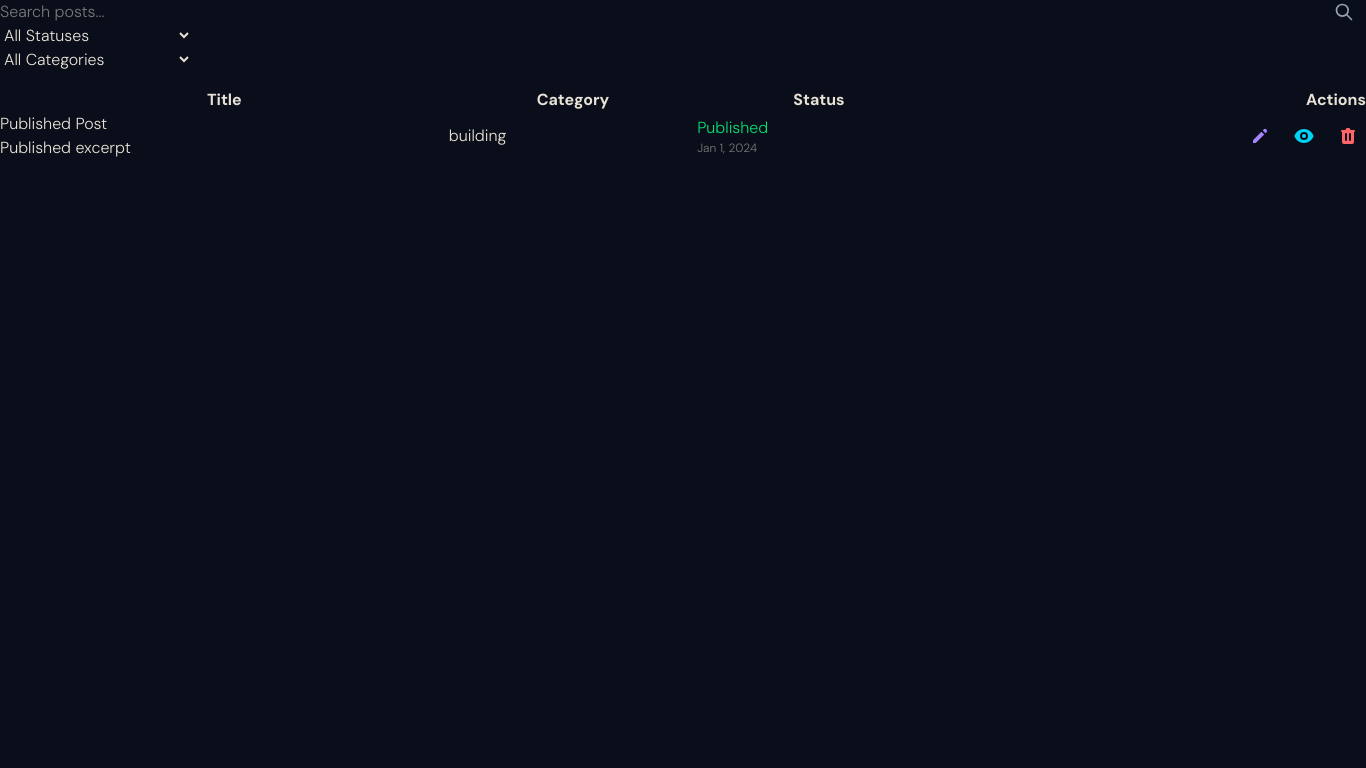
PostsTable › Delete Functionality › surfaces an API error and keeps the row
This screenshot has width=1366, height=768.
Click the button titled "Delete post" at point(1348, 136), box left=1330, top=118, right=1365, bottom=154
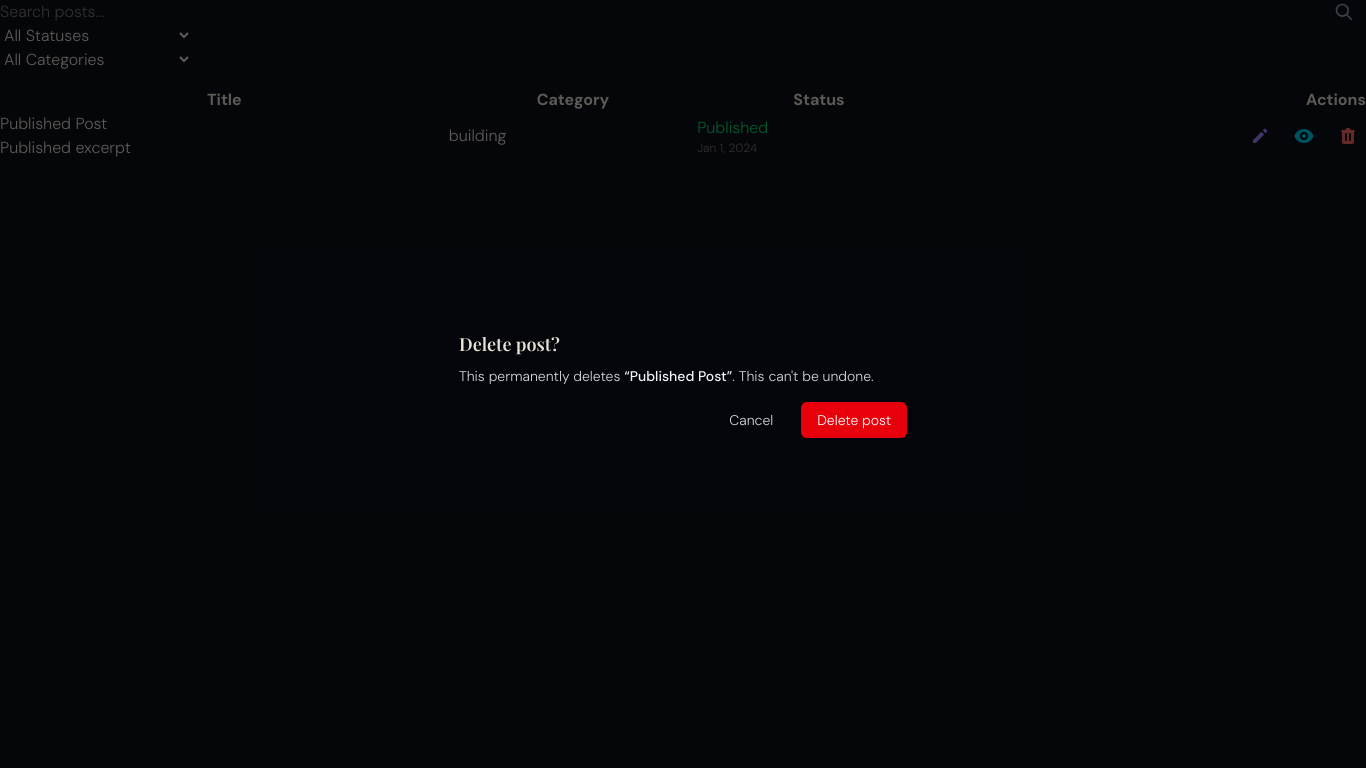
Click the button "Delete post" at point(854, 420), box left=801, top=402, right=907, bottom=438
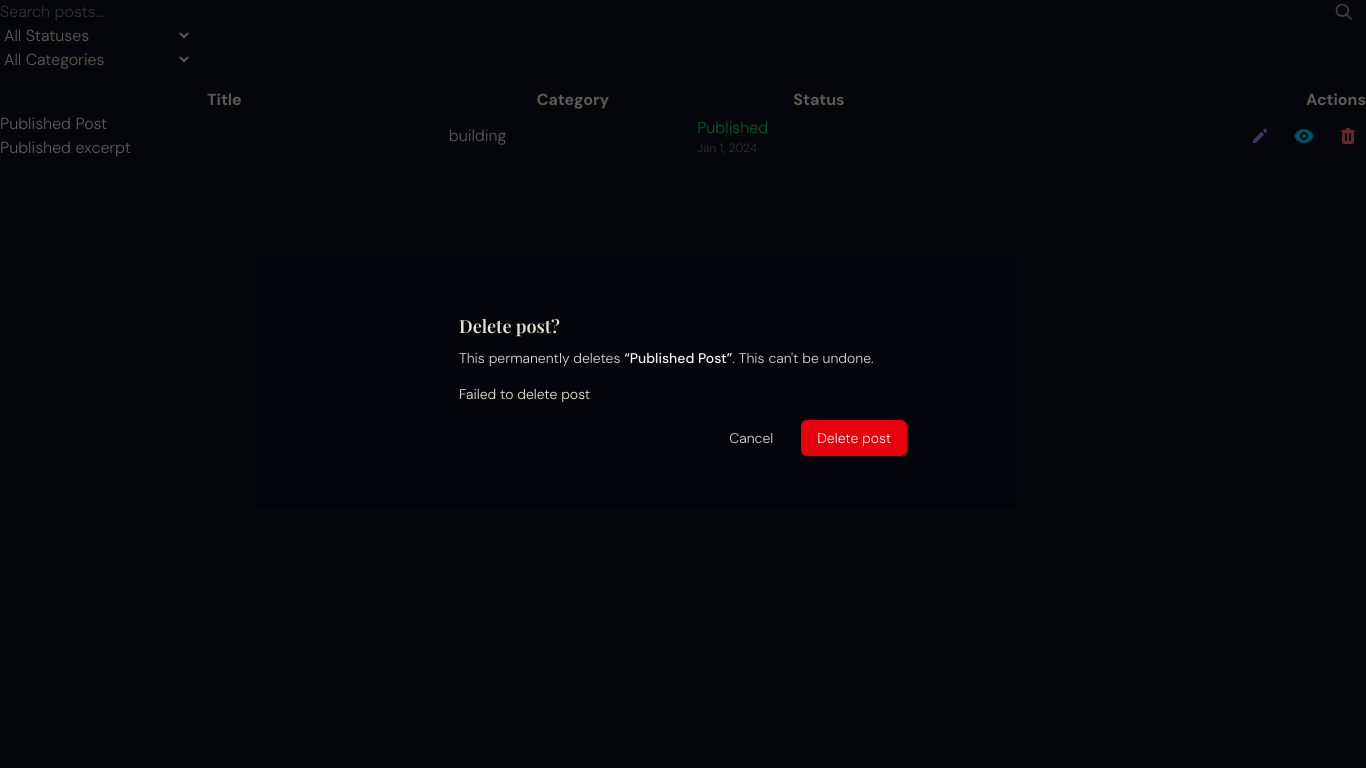
Expected: the text "Published Post" is shown, left=0, top=113, right=107, bottom=134
Result: the text "Failed to delete post" is shown at left=459, top=385, right=590, bottom=403
